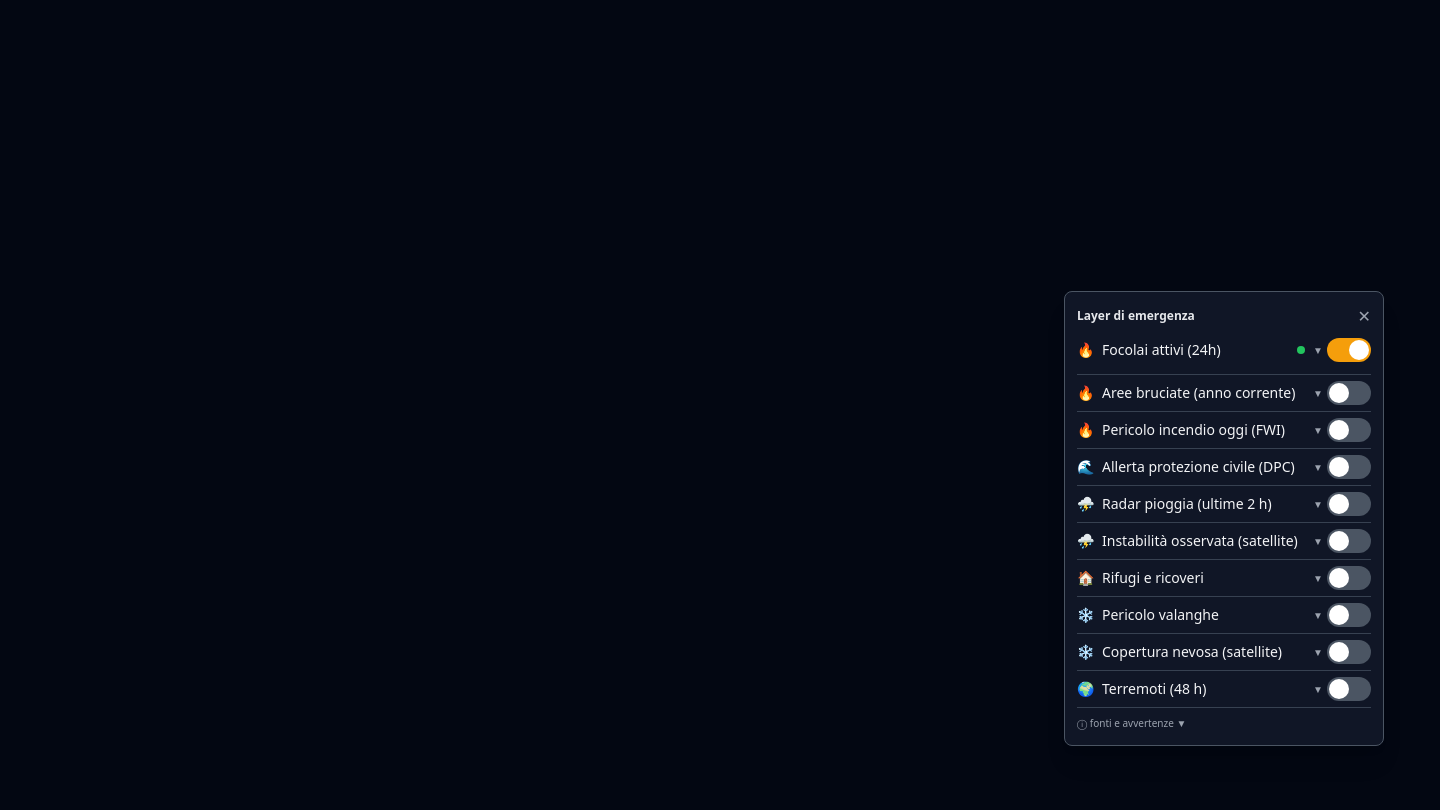
Test: pannello layer compatto › l orario di aggiornamento sta nel dettaglio, non sulla riga chiusa
Expected: the text "Aggiornato alle" is not shown
Click the button "🔥 Focolai attivi (24h) ▼": click(1200, 350) [1077, 332, 1323, 368]
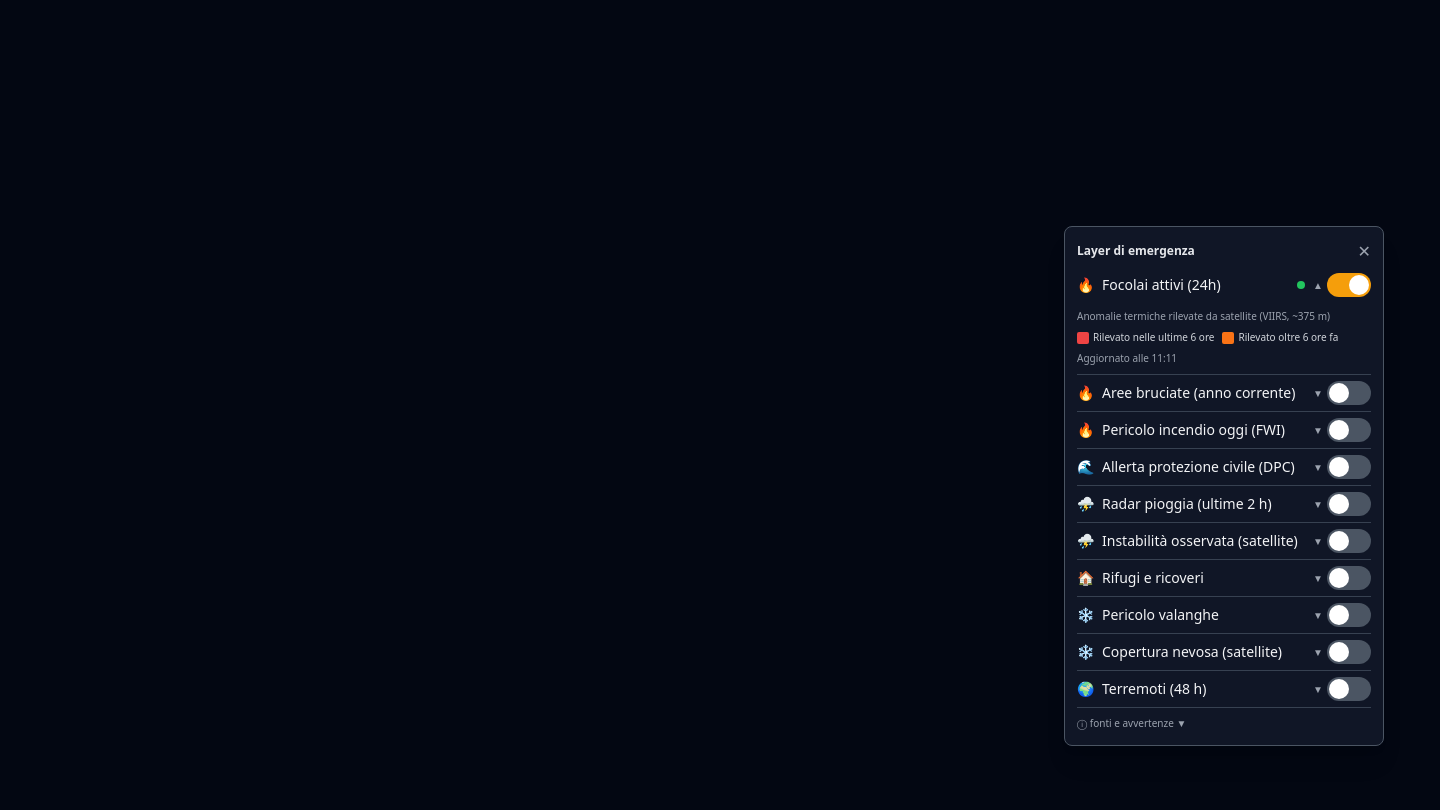
Now the text "Aggiornato alle 11:11" is shown, box [1077, 351, 1177, 365]
